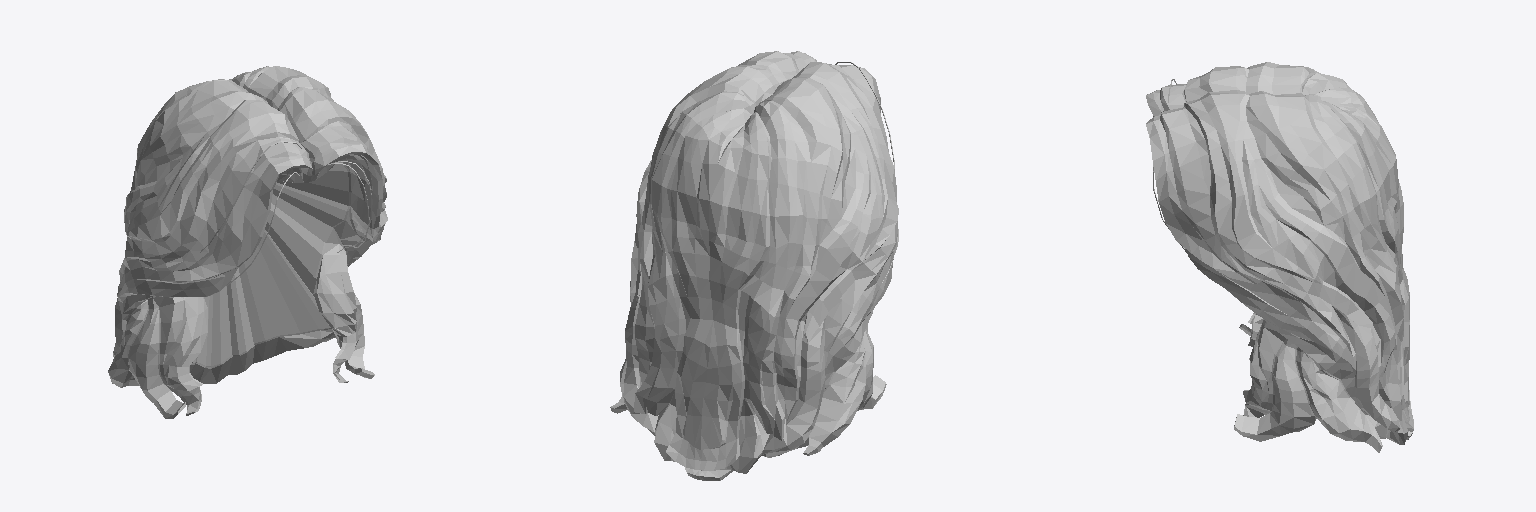
File: hair0.obj
3 renders of one model, left to right at view 1: azimuth 30°, elevation 25°; view 2: azimuth 150°, elevation 25°; view 3: azimuth 270°, elevation 25°, orthographic.
Parts seen in each view (by area): view 1: figureHair; view 2: figureHair; view 3: figureHair.
Boxes of the visible parts, box(x1,y1,x2,y2) form: figureHair: box(108, 66, 387, 418); figureHair: box(610, 51, 898, 480); figureHair: box(1146, 62, 1413, 452).
Bounding box in the file's own units: 0.1022 × 0.1426 × 0.0983.